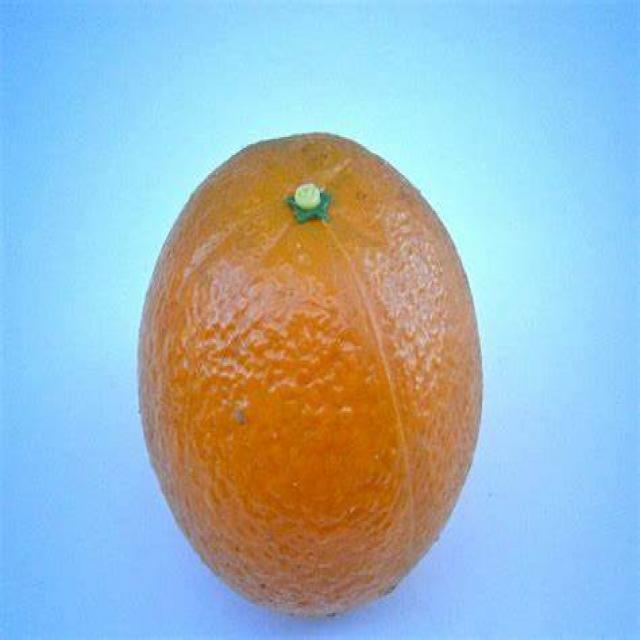Orange: (130, 130, 489, 622)
